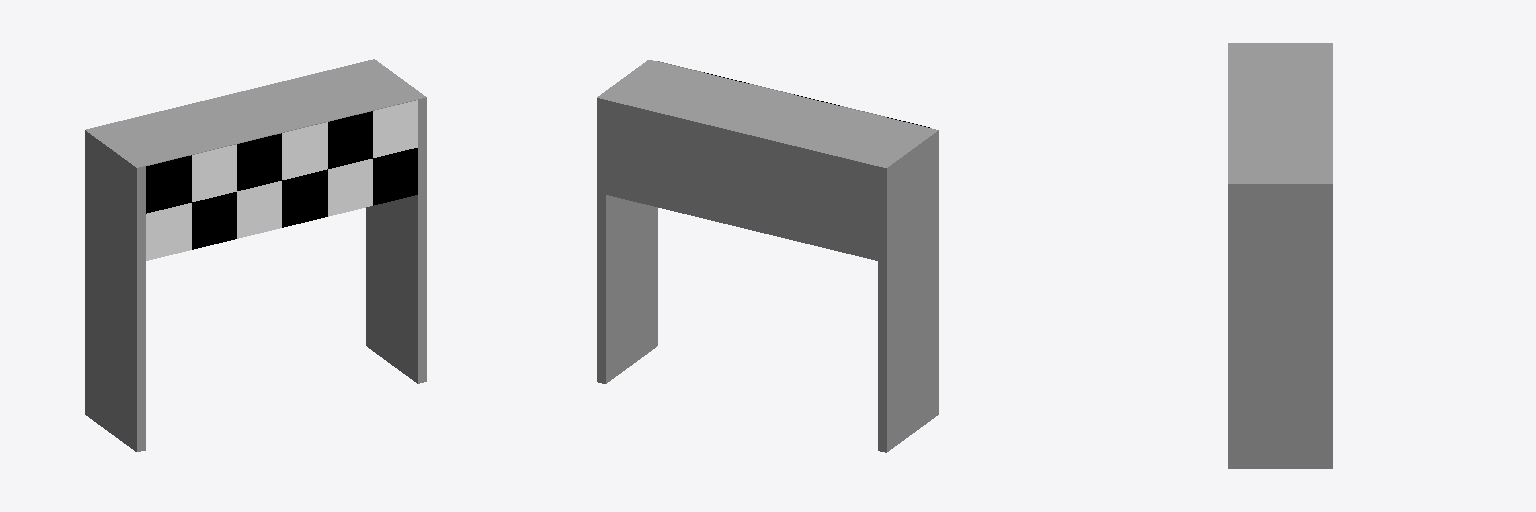
The model's file is goal.obj.
3 views of the same model, side by side, from view 1: azimuth 30°, elevation 25°; view 2: azimuth 150°, elevation 25°; view 3: azimuth 270°, elevation 25° (orthographic).
Visible parts, largest first — view 1: Shape, SquareBBC, SquareWTC, SquareBTL, SquareWBL, SquareBBL, SquareWTR, SquareBTR, SquareBBR, SquareWBC, SquareBTC, SquareWBR (+1 smaller); view 2: Shape; view 3: Shape.
Part boxes in pixels (bbox=[...]): Shape: bbox=[85, 59, 426, 451]; SquareBBC: bbox=[282, 169, 327, 227]; SquareWTC: bbox=[282, 122, 327, 179]; SquareBTL: bbox=[146, 155, 191, 213]; SquareWBL: bbox=[146, 203, 191, 260]; SquareBBL: bbox=[192, 192, 236, 249]; SquareWTR: bbox=[373, 100, 417, 157]; SquareBTR: bbox=[328, 111, 372, 168]; SquareBBR: bbox=[373, 148, 417, 205]; SquareWBC: bbox=[237, 181, 281, 238]; SquareBTC: bbox=[237, 133, 281, 190]; SquareWBR: bbox=[328, 159, 372, 216]; Shape: bbox=[597, 60, 938, 452]; Shape: bbox=[1228, 43, 1332, 468].
Size of the model in its own units: 3.2 by 3 by 1.01.